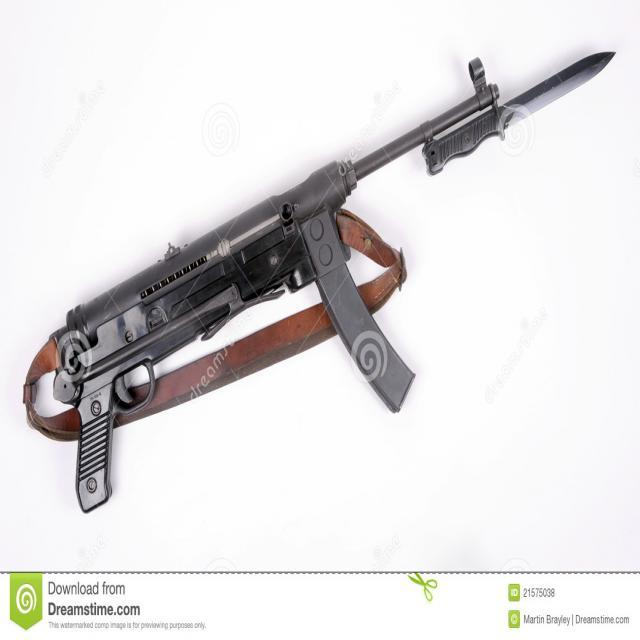knife: (430, 45, 627, 187)
smg: (17, 127, 513, 508)
